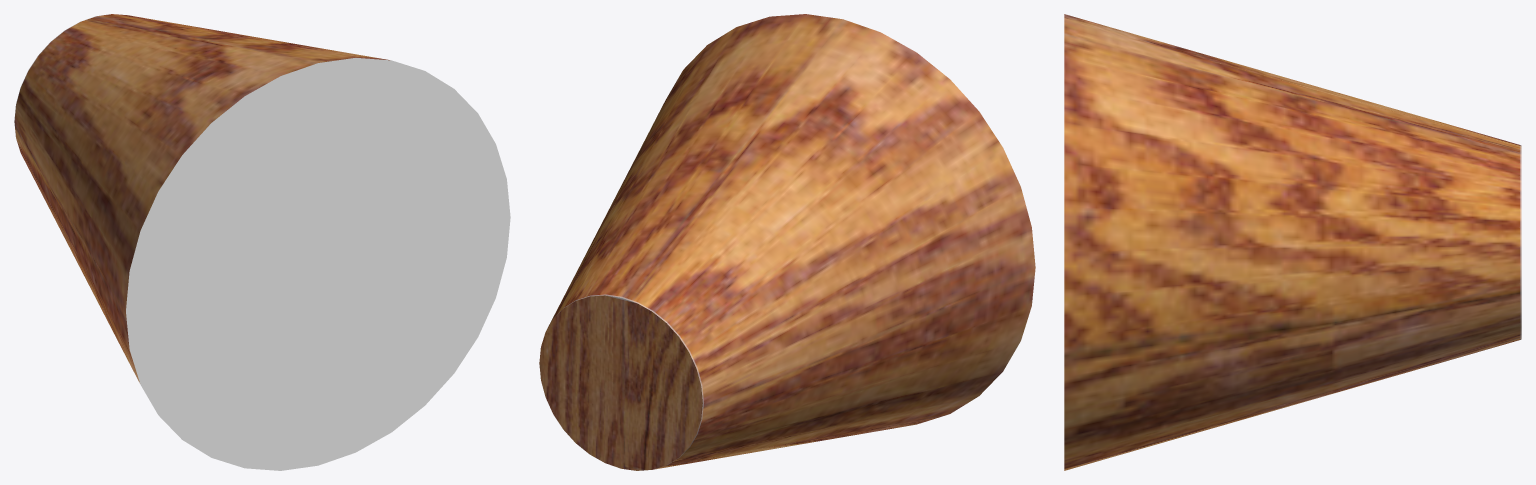
File: SpotLight.fbx
3 views of the same model, side by side, from view 1: azimuth 30°, elevation 25°; view 2: azimuth 150°, elevation 25°; view 3: azimuth 270°, elevation 25° (orthographic). The views are drawn at different scales.
Parts seen in each view (by area): view 1: Cylinder; view 2: Cylinder; view 3: Cylinder.
Part boxes in pixels (x1,y1,x2,y2): Cylinder: (14,14,510,470); Cylinder: (539,14,1035,470); Cylinder: (1064,14,1521,470).
Bounding box in the file's own units: 0.5 × 0.5 × 0.5.
1 material, 1 textured.
